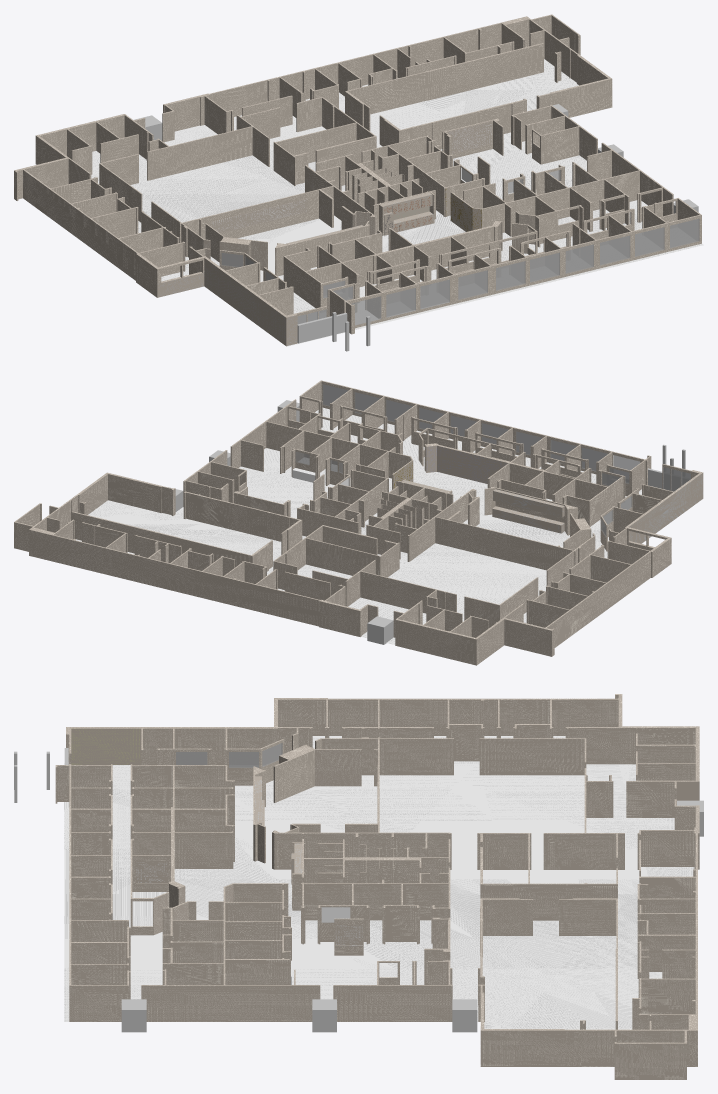
Rendered from willowgarage_visual_closed.dae.
The picture shows the model from 3 angles, top to bottom: view 1: azimuth 30°, elevation 25°; view 2: azimuth 150°, elevation 25°; view 3: azimuth 270°, elevation 25°; orthographic projection. The views are drawn at different scales.
Parts seen in each view (by area): view 1: SketchUp, instance_0_021, instance_0_006, instance_0_052, instance_0_038, instance_0_041, instance_0_005, instance_0_032, instance_0_004, instance_0_002, instance_0_036, instance_0_053 (+30 smaller); view 2: SketchUp, instance_0_006, instance_0_021, instance_0_041, instance_0_052, instance_0_032, instance_0_038, instance_0_004, instance_0_036, instance_0_020, instance_0_002, instance_0_023 (+13 smaller); view 3: SketchUp, instance_0_021, instance_0_006, instance_0_052, instance_0_041, instance_0_038, instance_0_032, instance_0_036, instance_0_053, instance_0_023, instance_0_004, instance_0_002 (+12 smaller).
Part boxes in pixels (bbox=[...]): SketchUp: bbox=[91, 59, 703, 346]; instance_0_021: bbox=[14, 114, 327, 321]; instance_0_006: bbox=[162, 14, 612, 142]; instance_0_052: bbox=[451, 142, 673, 246]; instance_0_038: bbox=[283, 221, 537, 307]; instance_0_041: bbox=[327, 198, 701, 334]; instance_0_005: bbox=[345, 43, 543, 131]; instance_0_032: bbox=[151, 165, 375, 257]; instance_0_004: bbox=[273, 97, 376, 185]; instance_0_002: bbox=[147, 107, 280, 180]; instance_0_036: bbox=[361, 135, 484, 215]; instance_0_053: bbox=[511, 104, 597, 163]; SketchUp: bbox=[76, 407, 703, 644]; instance_0_006: bbox=[14, 472, 378, 636]; instance_0_021: bbox=[393, 464, 702, 665]; instance_0_041: bbox=[299, 380, 651, 496]; instance_0_052: bbox=[230, 399, 412, 489]; instance_0_032: bbox=[407, 489, 595, 586]; instance_0_038: bbox=[418, 428, 625, 526]; instance_0_004: bbox=[273, 525, 399, 589]; instance_0_036: bbox=[297, 469, 388, 535]; instance_0_020: bbox=[183, 491, 302, 554]; instance_0_002: bbox=[312, 560, 456, 622]; instance_0_023: bbox=[366, 479, 453, 559]; SketchUp: bbox=[64, 736, 694, 1029]; instance_0_021: bbox=[66, 694, 699, 817]; instance_0_006: bbox=[478, 799, 699, 1079]; instance_0_052: bbox=[141, 883, 320, 1021]; instance_0_041: bbox=[55, 764, 130, 1021]; instance_0_038: bbox=[130, 764, 234, 935]; instance_0_032: bbox=[272, 737, 453, 869]; instance_0_036: bbox=[301, 867, 450, 942]; instance_0_053: bbox=[333, 960, 452, 1021]; instance_0_023: bbox=[292, 839, 450, 909]; instance_0_004: bbox=[477, 833, 617, 920]; instance_0_002: bbox=[543, 768, 624, 869].
Size of the model in its own units: 58.63 by 48.93 by 2.89.
